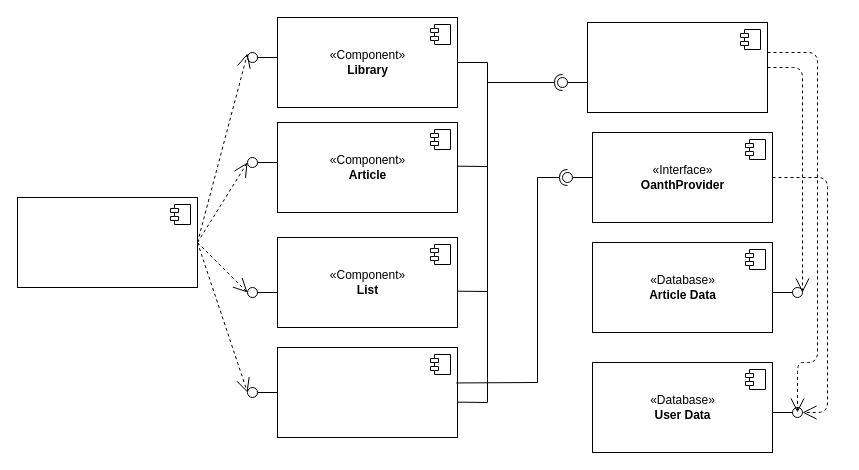
This 859x470 diagram has some shape labels left out. The centre of each missing label's shape, as x and y in pixels:
"«Component» User" belongs at point 367,392.
"«Interface» RESTful API" belongs at point 677,67.
"«UI» Client" belongs at point 107,242.
